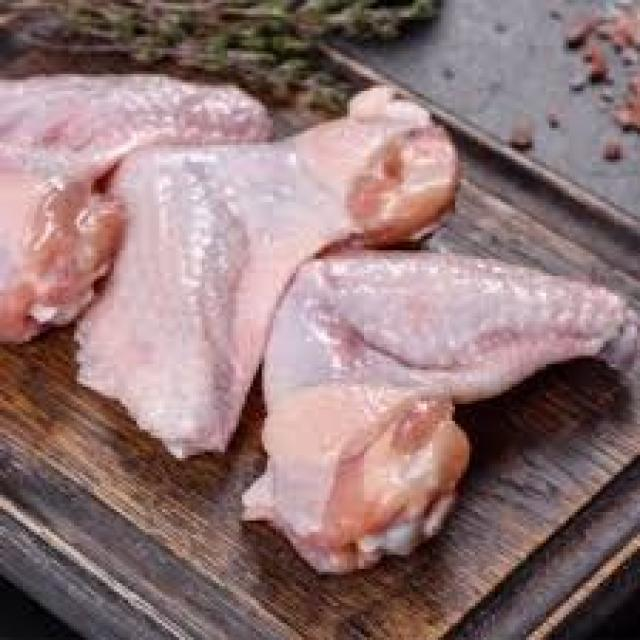wing: (247, 236, 640, 564), (87, 120, 457, 453), (0, 67, 268, 346)
